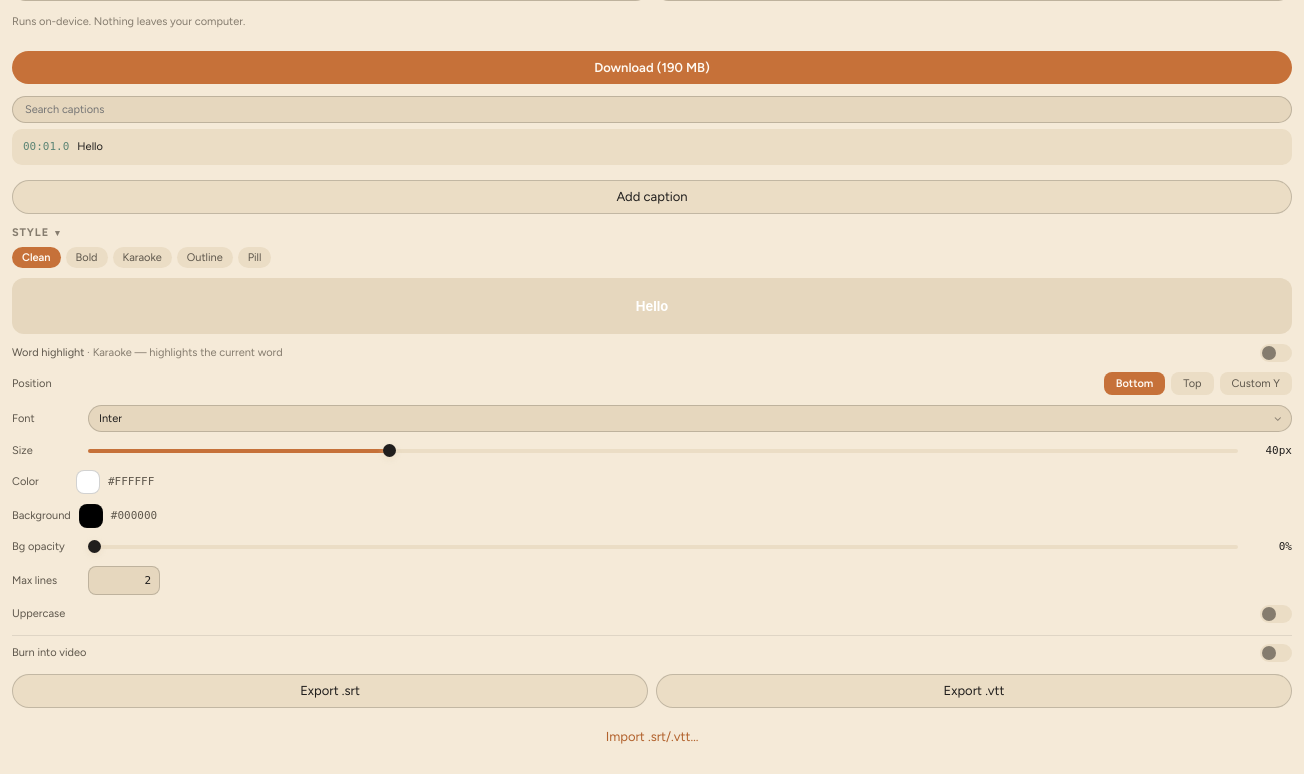
Captions tab › exports SRT/VTT through saveFile and imports a sidecar via pickFile
What coordinates should you click on to do the following:
click the button "Export .srt"
I would click on:
 (330, 691)
Its box is [12,674,648,708].
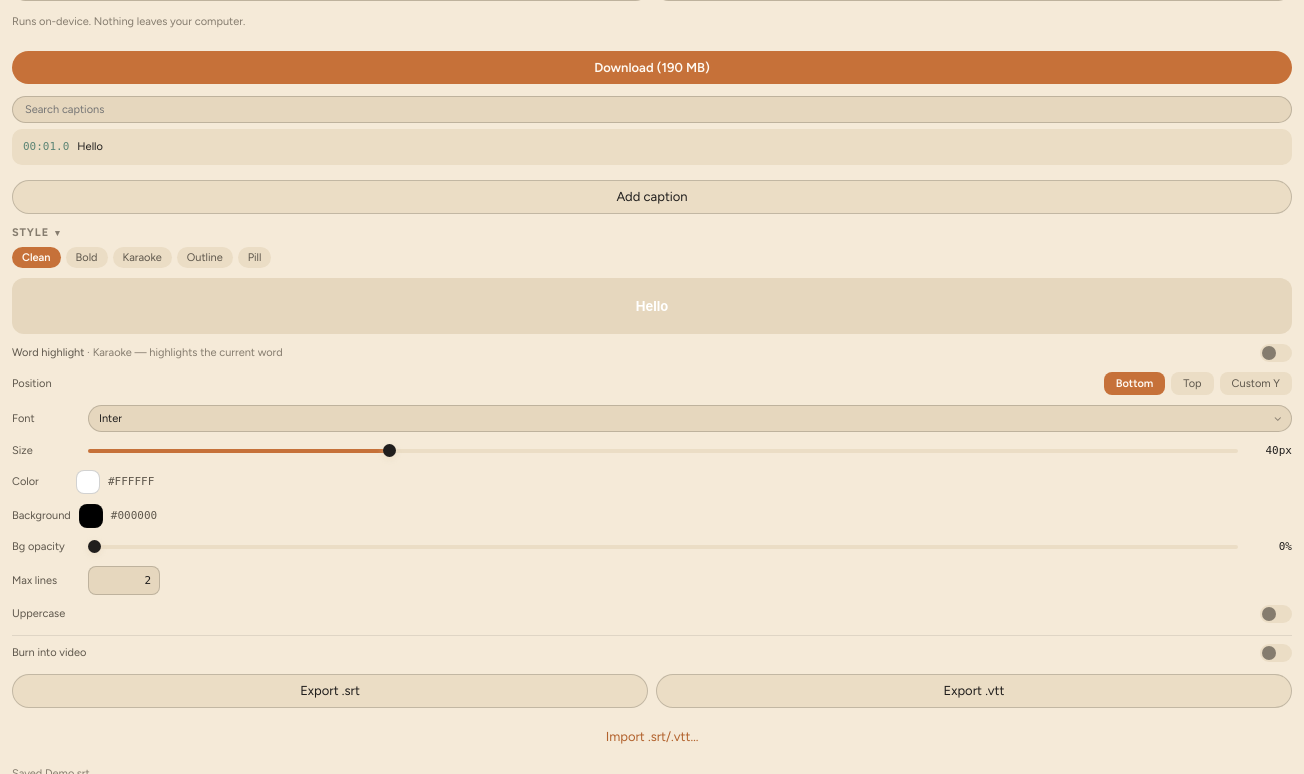
What coordinates should you click on to do the following:
click the button "Export .vtt"
I would click on:
 (974, 691)
Its box is [656,674,1292,708].
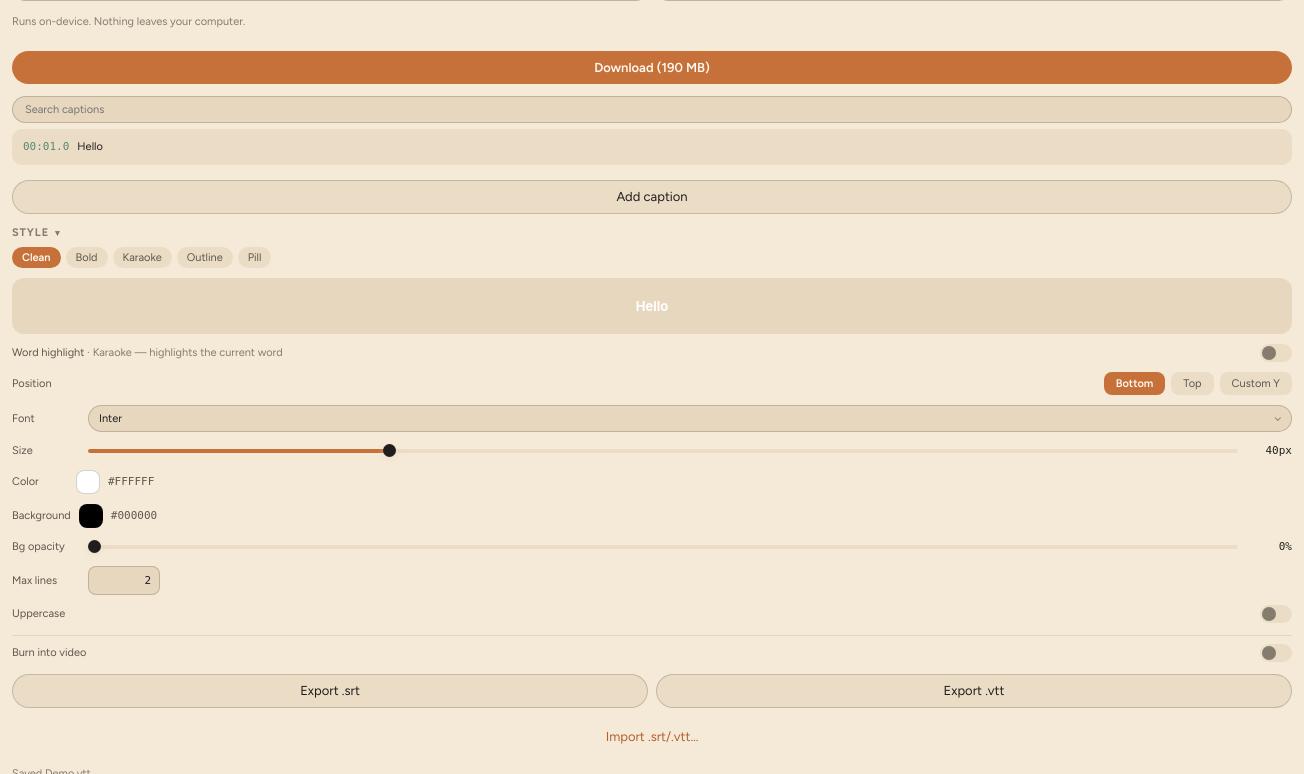
What coordinates should you click on to do the following:
click the button "Import .srt/.vtt…"
I would click on:
 (652, 736)
Its box is [12,720,1292,753].
(page scrolled)
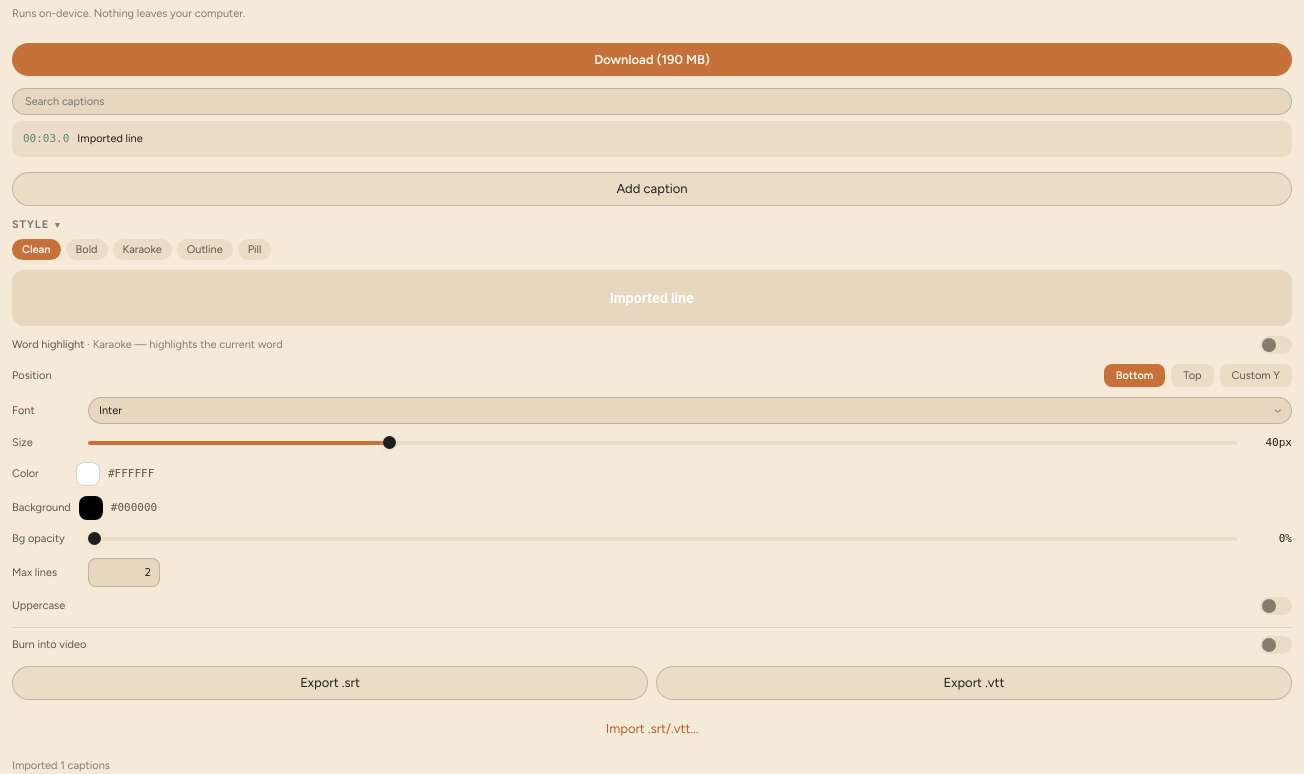
expect the text "Imported 1 captions" is shown: met, box [12,759,110,772]
